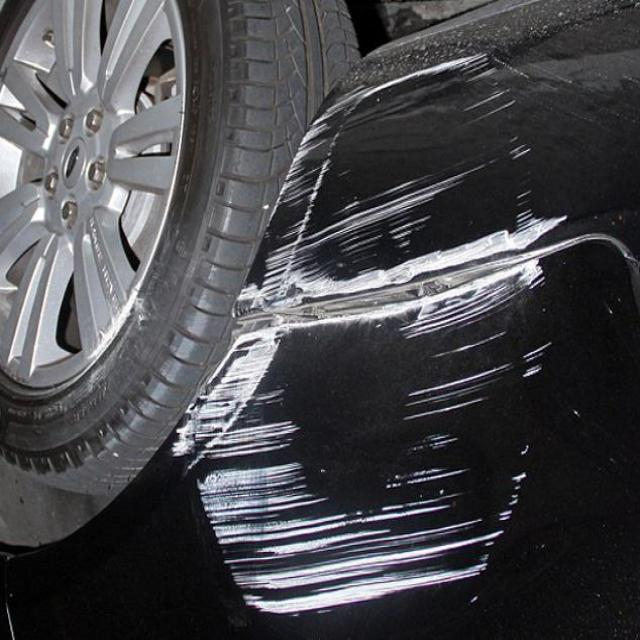scratch: (170, 31, 558, 634)
